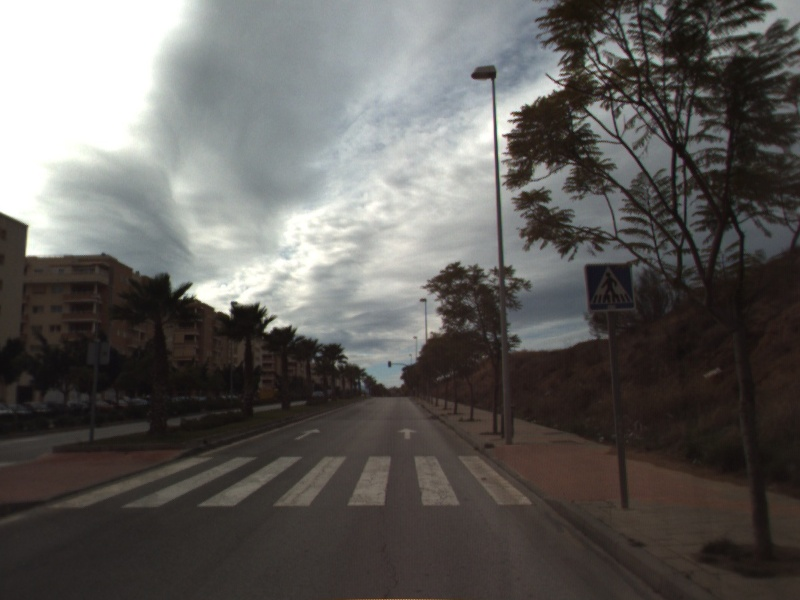STRAIGHT: (292, 427, 322, 442), (396, 426, 419, 441)
